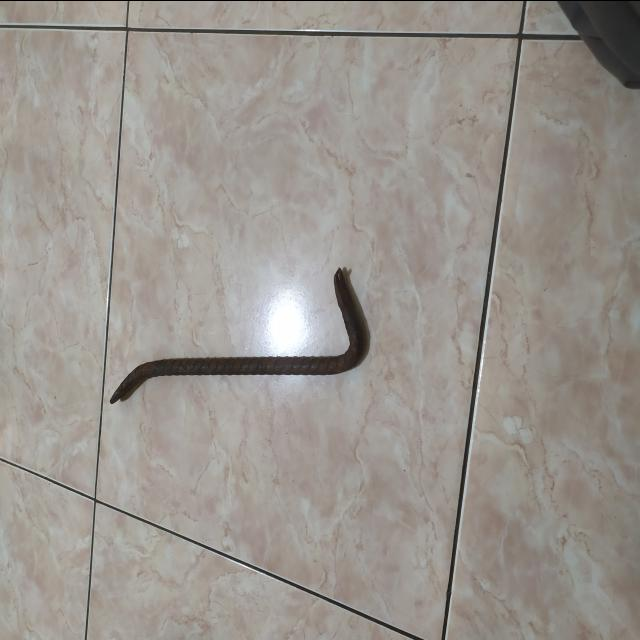Linggis: (109, 270, 368, 406)
